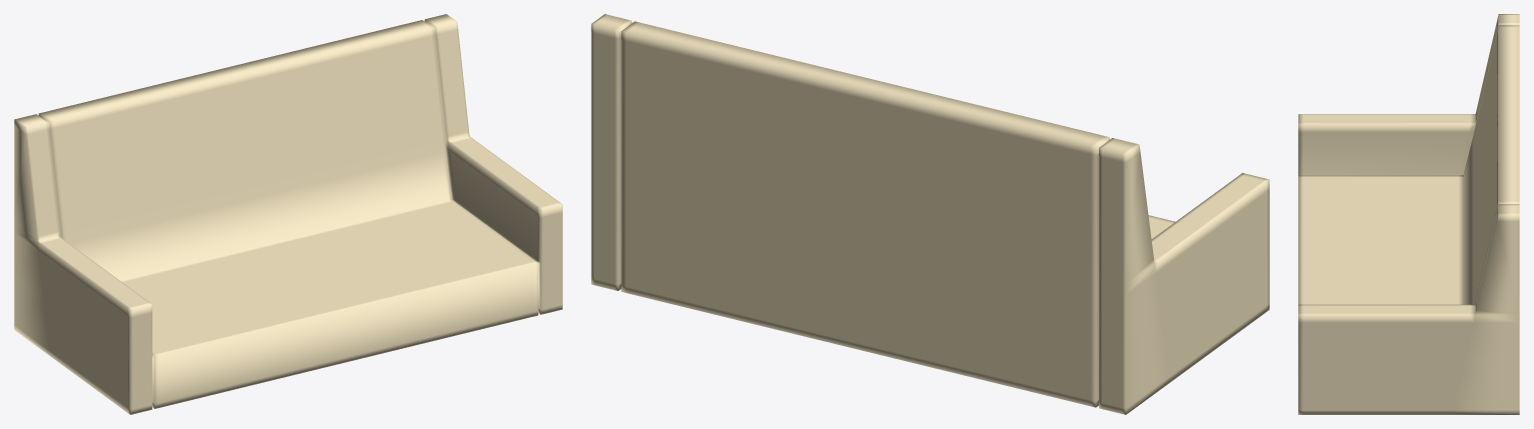
File: sofa.fbx
3 views of the same model, side by side, from view 1: azimuth 30°, elevation 25°; view 2: azimuth 150°, elevation 25°; view 3: azimuth 270°, elevation 25° (orthographic). The views are drawn at different scales.
Parts seen in each view (by area): view 1: CouchFrame; view 2: CouchFrame; view 3: CouchFrame.
Part boxes in pixels (x1=…): CouchFrame: x1=14, y1=14, x2=562, y2=414; CouchFrame: x1=591, y1=14, x2=1269, y2=414; CouchFrame: x1=1298, y1=14, x2=1519, y2=414.
Size of the model in its own units: 0.7959 by 0.3706 by 0.3705.
